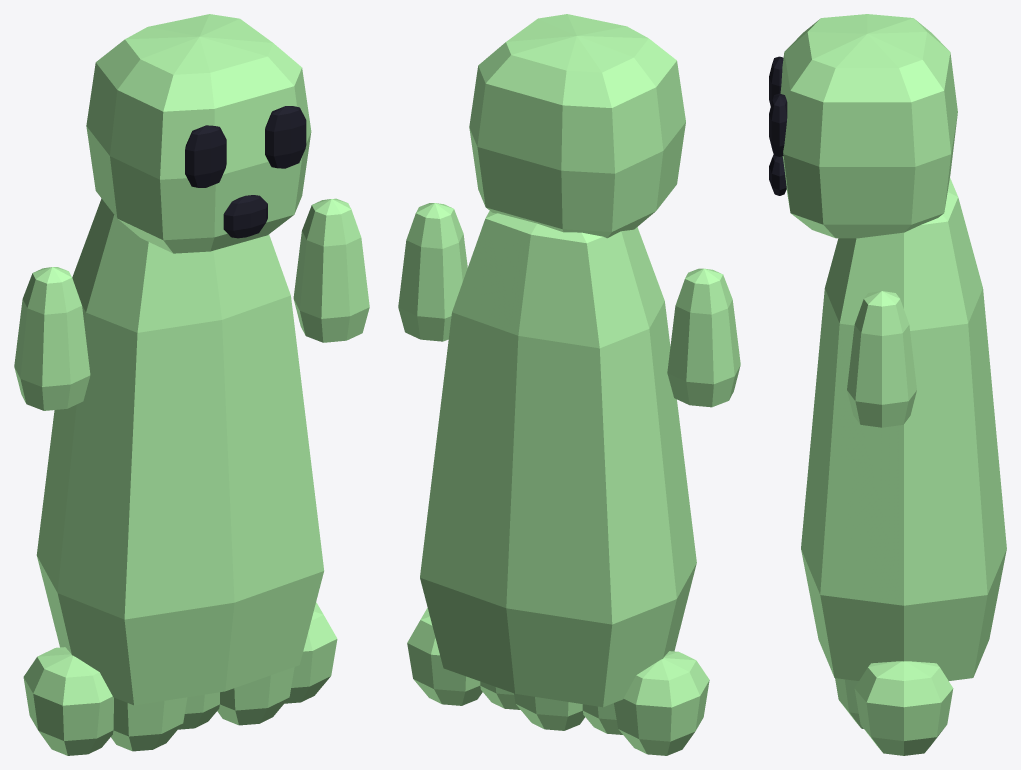
Rendered from mon-ghost-3.glb.
The picture shows the model from 3 angles, left to right: view 1: azimuth 30°, elevation 25°; view 2: azimuth 150°, elevation 25°; view 3: azimuth 270°, elevation 25°; orthographic projection. The views are drawn at different scales.
Parts seen in each view (by area): view 1: torso, head, arm-left, arm-right; view 2: torso, head, arm-right, arm-left; view 3: torso, head, arm-left.
Boxes of the visible parts, x1,y1,x2,y2 form: torso: (23,198,337,755); head: (86,14,311,253); arm-left: (293,198,369,342); arm-right: (14,267,90,410); torso: (407,211,709,755); head: (469,14,685,238); arm-right: (667,268,740,407); arm-left: (398,203,467,341); torso: (801,178,1006,755); head: (769,14,957,238); arm-left: (847,291,916,427).
Size of the model in its own units: 1.03 by 2.02 by 0.6505.
